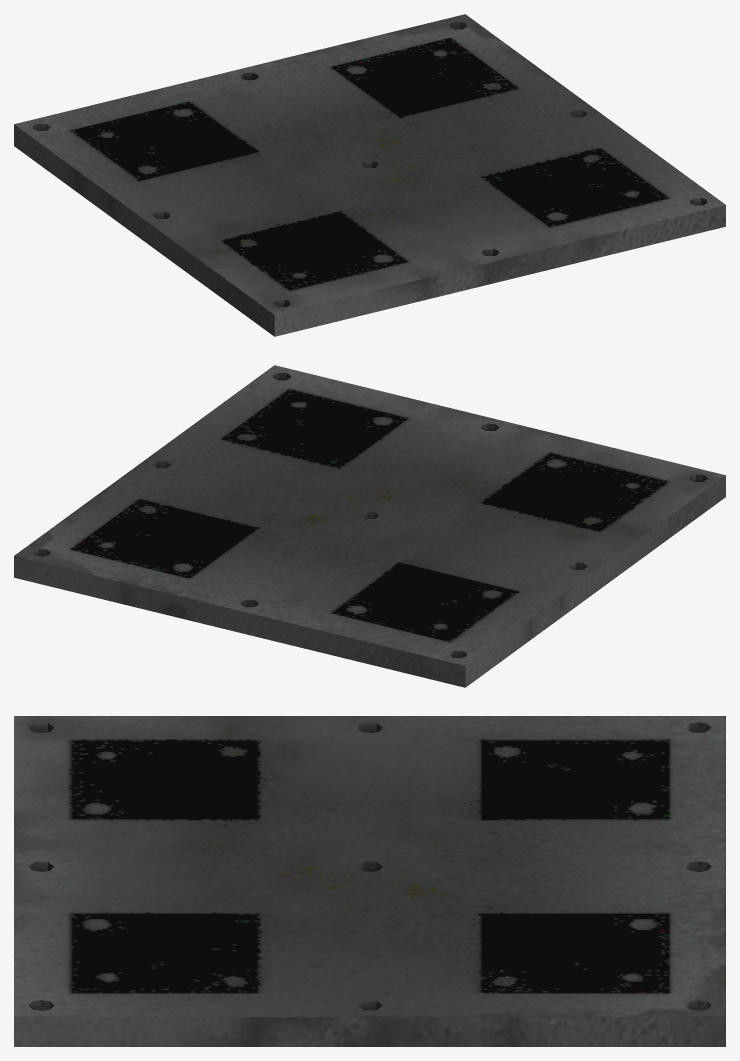
Rendered from robot1_plate.glb.
3 renders of one model, top to bottom at view 1: azimuth 30°, elevation 25°; view 2: azimuth 150°, elevation 25°; view 3: azimuth 270°, elevation 25°, orthographic. The views are drawn at different scales.
Parts seen in each view (by area): view 1: Asset3DLoader.sceneRoot; view 2: Asset3DLoader.sceneRoot; view 3: Asset3DLoader.sceneRoot.
Boxes of the visible parts, box(x1,y1,x2,y2) form: Asset3DLoader.sceneRoot: box(14, 14, 725, 336); Asset3DLoader.sceneRoot: box(14, 365, 725, 687); Asset3DLoader.sceneRoot: box(14, 716, 725, 1046).
Bounding box in the file's own units: 650 × 30 × 650.
1 material, 1 textured.
